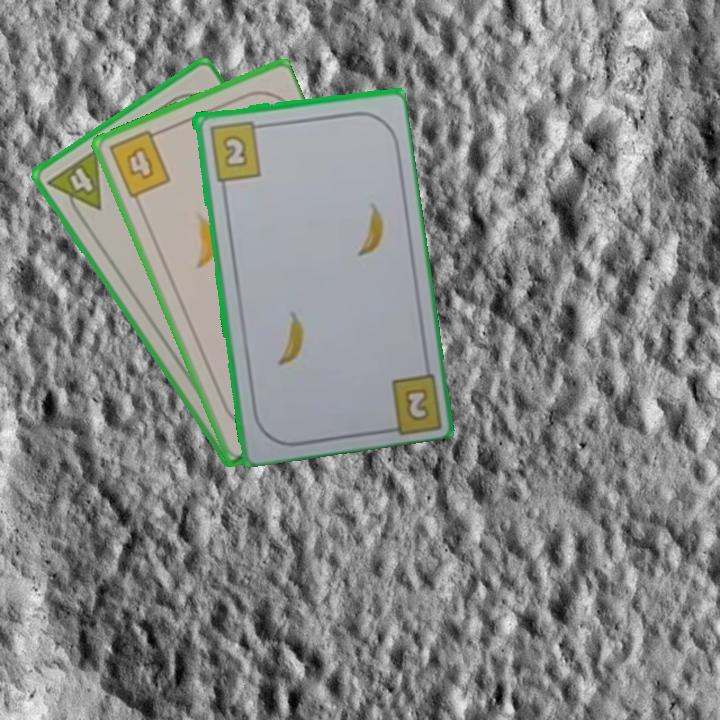2b: (205, 117, 267, 183), (404, 388, 429, 421)
4b: (105, 126, 174, 201)
4p: (44, 145, 105, 224)
